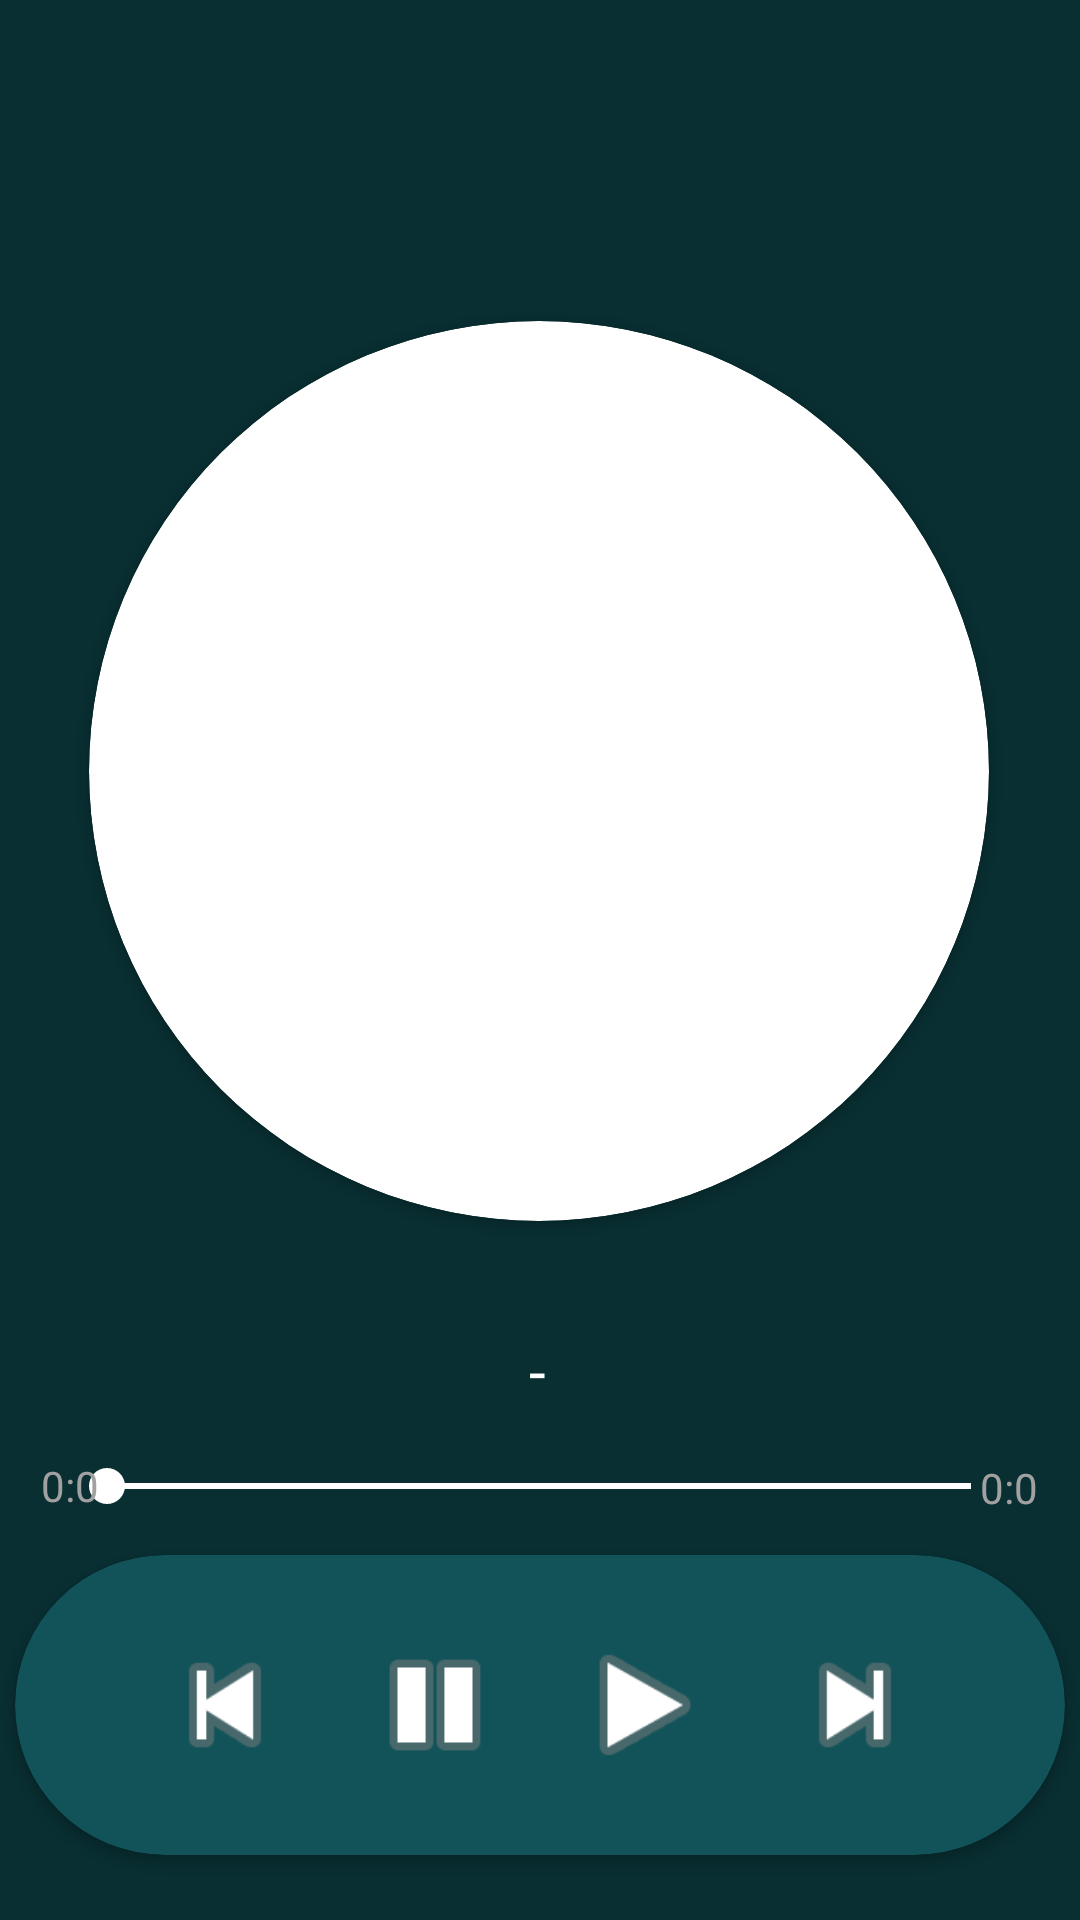

Where icons sit on this 1080 × 1920 app screen, as bbox(x1, y1, x2, y2):
pause: bbox(390, 1660, 480, 1750)
play: bbox(600, 1655, 690, 1755)
